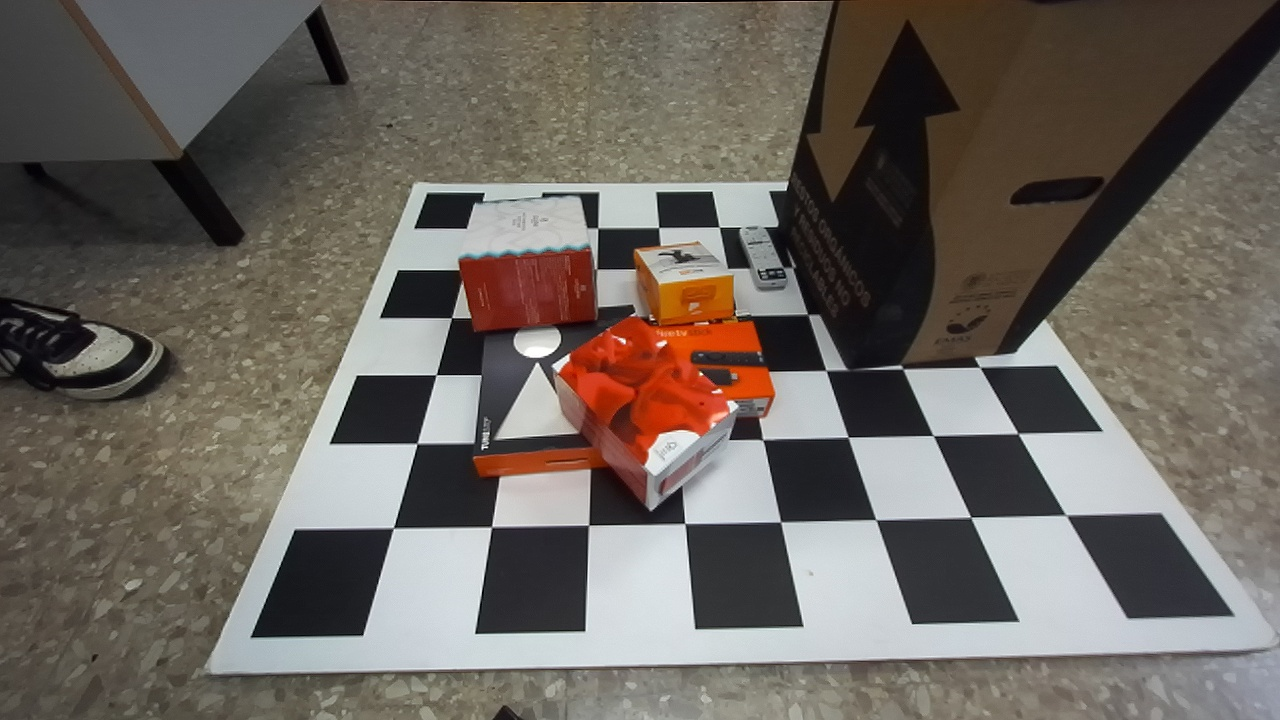caja_busbar: (458, 197, 595, 329)
caja_chasis: (473, 306, 631, 476)
caja_manguera: (649, 310, 774, 418)
caja_pcb: (633, 242, 733, 324)
caja_potencia: (554, 317, 736, 508)
